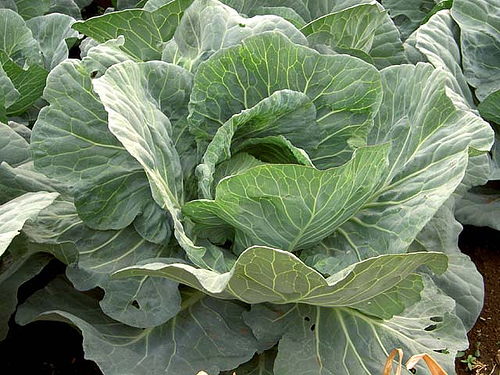cabbage: (14, 1, 494, 374)
